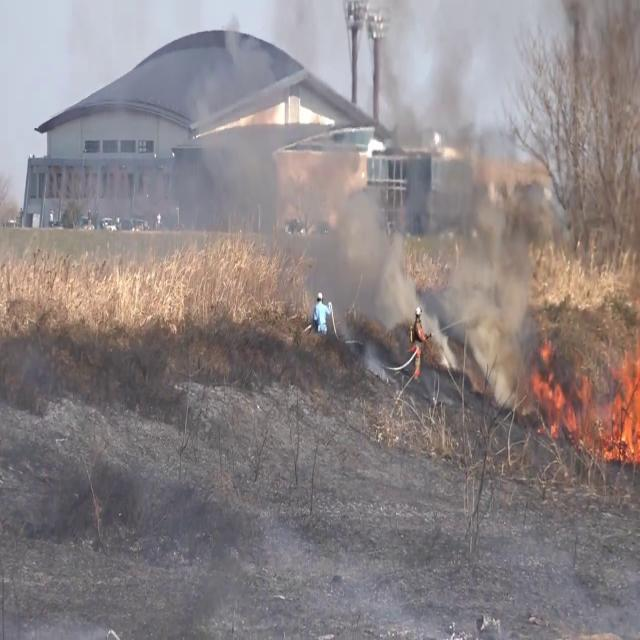Fire: (525, 341, 595, 453), (602, 317, 640, 464)
Smoke: (169, 0, 572, 329)
